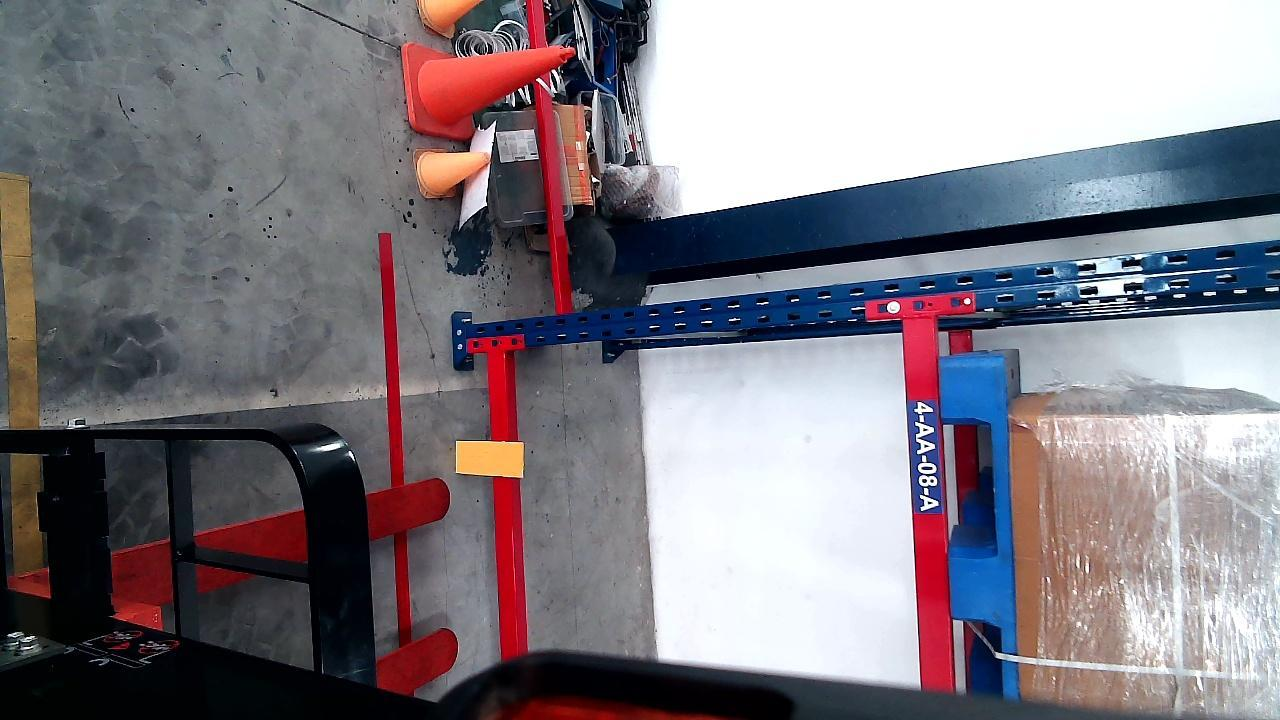red_line: (379, 230, 411, 645)
yellow_line: (3, 168, 39, 438)
